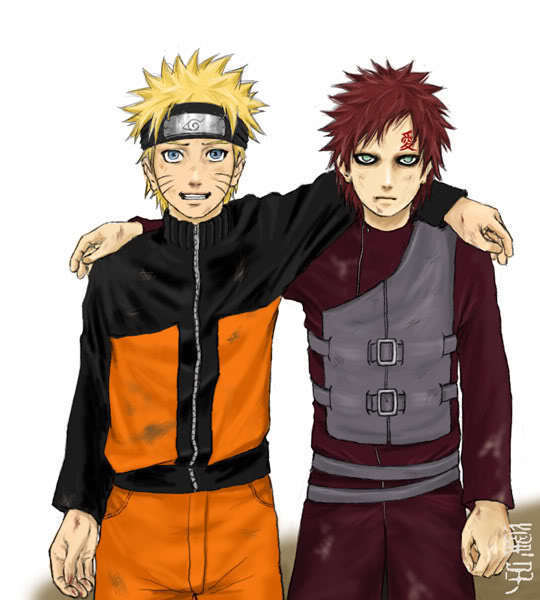gaara: (331, 108, 437, 223)
naruto: (136, 101, 248, 222)
